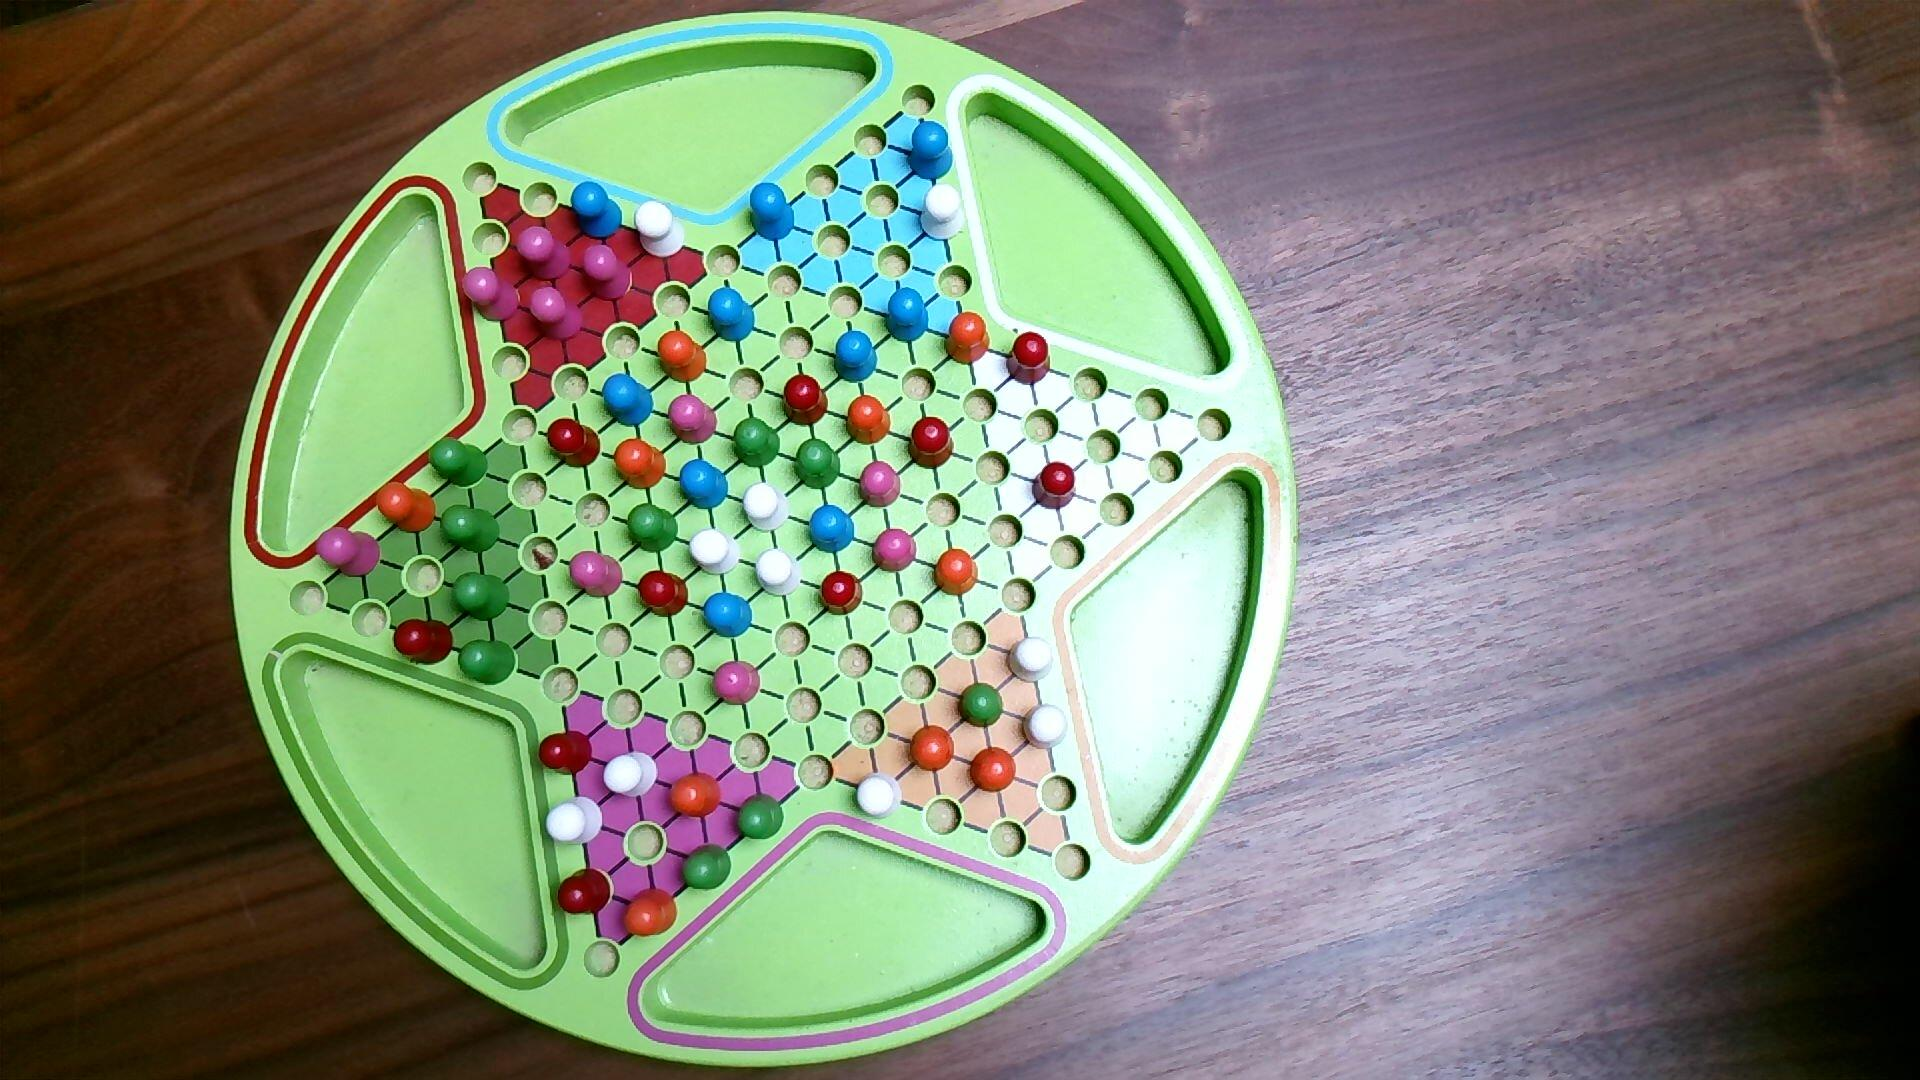B: (570, 179, 625, 240), (749, 182, 798, 243), (909, 120, 956, 182), (603, 373, 655, 429), (707, 287, 757, 344), (884, 285, 931, 344), (678, 459, 731, 512), (808, 502, 857, 556), (702, 591, 754, 640), (835, 328, 880, 385)
G: (429, 436, 491, 491), (451, 570, 512, 624), (439, 506, 501, 555), (626, 501, 680, 556), (458, 638, 517, 687), (733, 415, 782, 471), (793, 438, 843, 491), (680, 844, 733, 891), (957, 683, 1006, 731), (738, 793, 785, 843)
O: (375, 479, 439, 535), (621, 886, 680, 939), (615, 436, 669, 493), (655, 328, 709, 385), (666, 769, 723, 820), (943, 309, 992, 367), (967, 745, 1018, 794), (909, 724, 957, 775), (845, 394, 893, 447), (931, 547, 980, 597)
R: (392, 617, 456, 669), (556, 864, 615, 918), (546, 417, 603, 471), (1004, 328, 1055, 386), (537, 728, 593, 778), (907, 415, 957, 472), (638, 568, 691, 620), (781, 373, 829, 429), (1031, 462, 1079, 513), (819, 568, 865, 618)
R2: (459, 264, 521, 324), (315, 526, 382, 579), (527, 285, 585, 344), (516, 225, 574, 284), (580, 243, 634, 303), (568, 550, 625, 600), (667, 393, 719, 446), (711, 659, 762, 708), (872, 526, 918, 576), (858, 460, 902, 510)
W: (634, 199, 688, 260), (545, 795, 605, 848), (919, 182, 969, 243), (603, 750, 659, 800), (688, 527, 742, 578), (744, 483, 793, 534), (756, 547, 803, 600), (855, 771, 903, 822), (1007, 636, 1056, 686), (1022, 702, 1069, 752)
